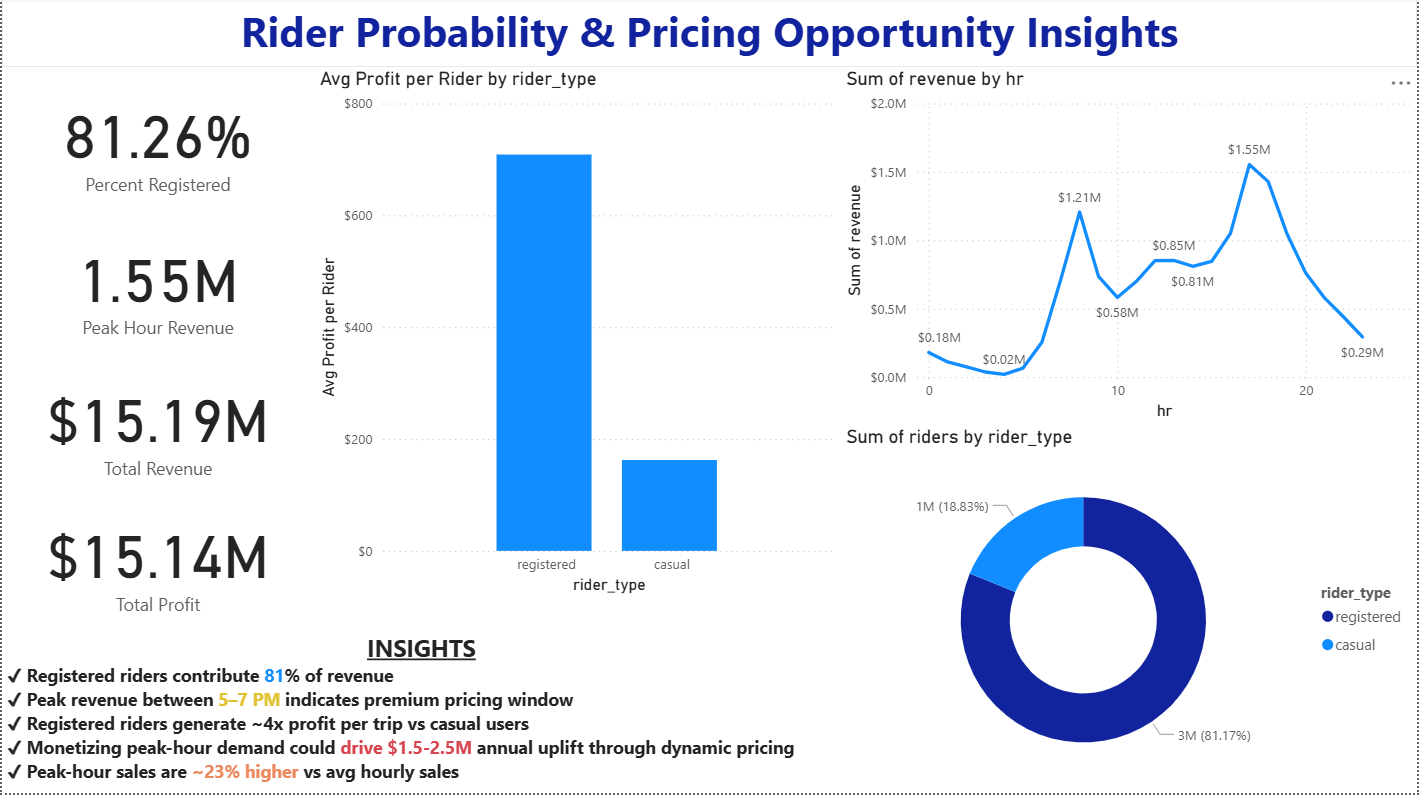

The page's visual inventory and layout, read from the dashboard file:
{"tool":"powerbi","page":{"name":"Page 1","canvas":[1280,720],"ordinal":0},"visuals":[{"type":"shape","box":[10,0,1270,229],"z":0},{"type":"cardVisual","fields":{"Data":["Sum(Cleaned_data.riders)"]},"box":[0,97.9,444.9,622.9],"z":1000},{"type":"cardVisual","fields":{"Data":["Sum(Cleaned_data.riders)"]},"box":[428.9,97.9,850.7,311.5],"z":2000},{"type":"cardVisual","fields":{"Data":["Sum(Cleaned_data.riders)"]},"box":[428.9,391.6,850.7,329.3],"z":3000},{"type":"cardVisual","fields":{"Data":["Sum(Cleaned_data.riders)"]},"box":[30.3,113.9,151.3,162],"z":4000},{"type":"pivotTable","fields":{"Columns":["Cleaned_data.weekday"],"Values":["Avg(Cleaned_data.revenue)"],"Rows":["Cleaned_data.hr"]},"box":[46.3,377.3,350.6,316.8],"z":5000},{"type":"textbox","box":[206.5,149.5,190.4,92.5],"z":6000},{"type":"textbox","box":[30.3,261.6,384.4,115.7],"z":7000},{"type":"lineClusteredColumnComboChart","title":"KPI Over Time","fields":{"Y":["Sum(Cleaned_data.riders)"],"Category":["Cleaned_data.dteday.Variation.Date Hierarchy.Year","Cleaned_data.dteday.Variation.Date Hierarchy.Month"],"Y2":["Avg(Cleaned_data.profit)"]},"box":[457.4,124.1,793.5,252.5],"z":8000},{"type":"clusteredBarChart","title":"Revenue By Season","fields":{"Category":["Cleaned_data.season"],"Y":["Sum(Cleaned_data.revenue)"]},"box":[457.4,419.8,411.2,271.2],"z":9000},{"type":"donutChart","title":"Riders Demographics","fields":{"Category":["Cleaned_data.rider_type"],"Y":["Sum(Cleaned_data.riders)"]},"box":[930.6,415.5,301.5,281.3],"z":10000},{"type":"shape","box":[738.7,409.7,261.1,295.8],"z":11000},{"type":"card","title":"KPI Over Time","fields":{"Values":["Sum(Cleaned_data.riders)"]},"box":[738.7,5.8,151.5,102.4],"z":12000},{"type":"card","fields":{"Values":["Sum(Cleaned_data.profit)"]},"box":[1082.1,5.8,177.5,102.4],"z":13000},{"type":"card","fields":{"Values":["Sum(Cleaned_data.revenue)"]},"box":[903.2,5.8,167.4,102.4],"z":14000},{"type":"textbox","box":[46.2,21.6,255.4,66.4],"z":15000},{"type":"slicer","title":"Year Slicer","fields":{"Values":["Cleaned_data.yr"]},"box":[444.4,10.1,275.6,96.7],"z":15001},{"type":"actionButton","box":[327.5,47.6,116.9,50.5],"z":15002}]}

Visuals, with their boxes in screenshot pixels (x1, y1, x2, y2), scaled from the page's 1280x720 canvas onto the 1421x795 screenshot:
shape: bbox=[11, 0, 1420, 253]
cardVisual - Sum(Cleaned_data.riders): bbox=[0, 108, 494, 794]
cardVisual - Sum(Cleaned_data.riders): bbox=[476, 108, 1420, 452]
cardVisual - Sum(Cleaned_data.riders): bbox=[476, 432, 1420, 794]
cardVisual - Sum(Cleaned_data.riders): bbox=[34, 126, 202, 305]
pivotTable - Cleaned_data.weekday x Avg(Cleaned_data.revenue): bbox=[51, 417, 441, 766]
textbox: bbox=[229, 165, 441, 267]
textbox: bbox=[34, 289, 460, 417]
"KPI Over Time" lineClusteredColumnComboChart: bbox=[508, 137, 1389, 416]
"Revenue By Season" clusteredBarChart: bbox=[508, 464, 964, 763]
"Riders Demographics" donutChart: bbox=[1033, 459, 1368, 769]
shape: bbox=[820, 452, 1110, 779]
"KPI Over Time" card: bbox=[820, 6, 988, 119]
card - Sum(Cleaned_data.profit): bbox=[1201, 6, 1398, 119]
card - Sum(Cleaned_data.revenue): bbox=[1003, 6, 1189, 119]
textbox: bbox=[51, 24, 335, 97]
"Year Slicer" slicer: bbox=[493, 11, 799, 118]
actionButton: bbox=[364, 53, 493, 108]
